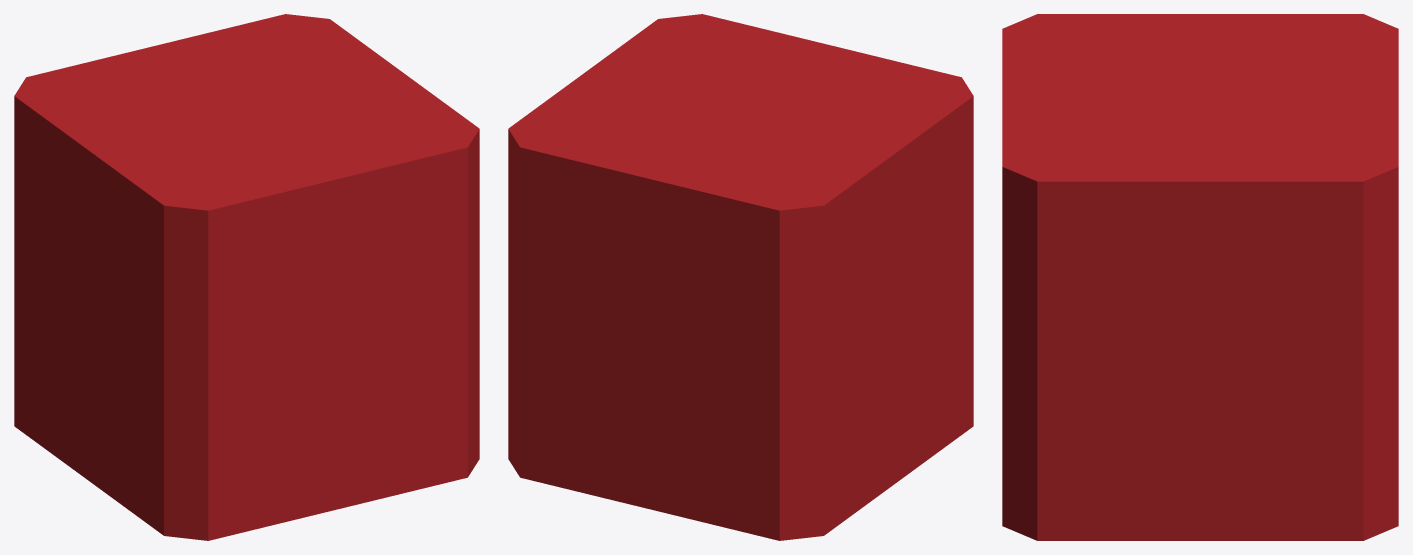
The model's file is ThrowProp_BuildingBlock_BoxS.FBX.
3 renders of one model, left to right at view 1: azimuth 30°, elevation 25°; view 2: azimuth 150°, elevation 25°; view 3: azimuth 270°, elevation 25°, orthographic. The views are drawn at different scales.
Visible parts, largest first — view 1: BuildingBlock_BoxS; view 2: BuildingBlock_BoxS; view 3: BuildingBlock_BoxS.
Part boxes in pixels (x1=…): BuildingBlock_BoxS: x1=14, y1=14, x2=479, y2=540; BuildingBlock_BoxS: x1=508, y1=14, x2=973, y2=540; BuildingBlock_BoxS: x1=1002, y1=14, x2=1398, y2=540.
Size of the model in its own units: 5 by 5 by 5.
1 material, 1 textured.
